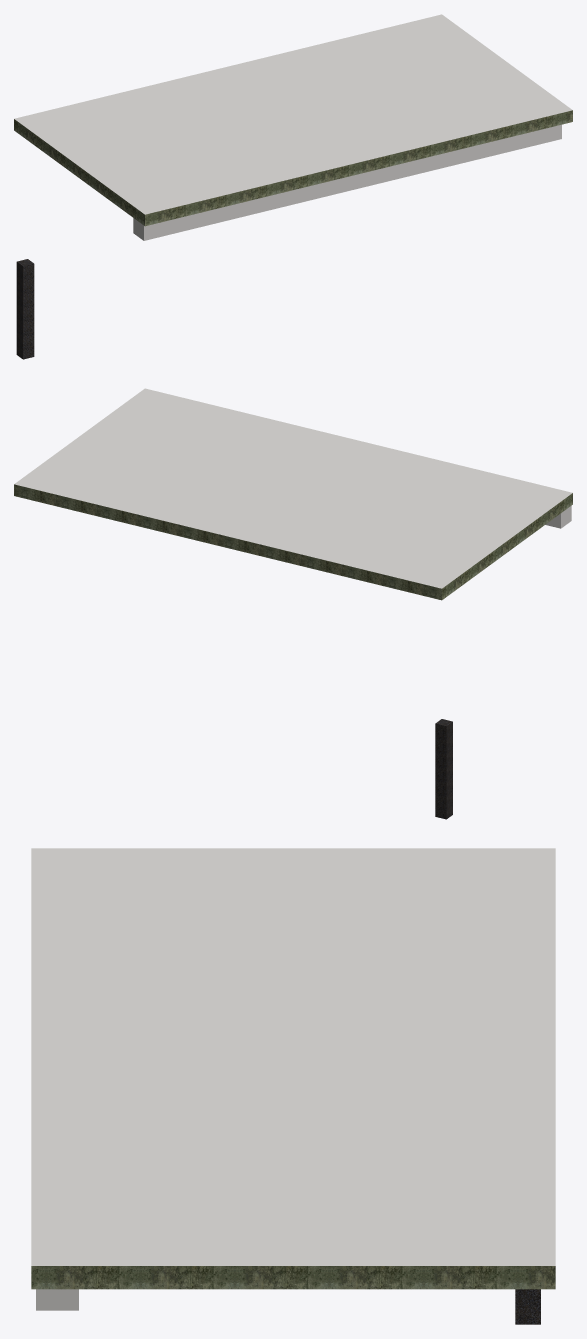
3 views of the same model, one above another, from view 1: azimuth 30°, elevation 25°; view 2: azimuth 150°, elevation 25°; view 3: azimuth 270°, elevation 25° (orthographic). The views are drawn at different scales.
Visible parts, largest first — view 1: Floor Floor-Grnd-Susp_65Scr-80Ins-100Blk-75PC [688862]001, Concrete - Rectangular Beam 250 x 350 mm [688590]001, Columns_Rectangular 150 x 150 mm2 [667990]001; view 2: Floor Floor-Grnd-Susp_65Scr-80Ins-100Blk-75PC [688862]001, Columns_Rectangular 150 x 150 mm2 [667990]001; view 3: Floor Floor-Grnd-Susp_65Scr-80Ins-100Blk-75PC [688862]001, Concrete - Rectangular Beam 250 x 350 mm [688590]001, Columns_Rectangular 150 x 150 mm2 [667990]001.
Part boxes in pixels (x1,y1,x2,y2): Floor Floor-Grnd-Susp_65Scr-80Ins-100Blk-75PC [688862]001: [14, 14, 572, 226]; Concrete - Rectangular Beam 250 x 350 mm [688590]001: [133, 124, 561, 240]; Columns_Rectangular 150 x 150 mm2 [667990]001: [16, 259, 34, 359]; Floor Floor-Grnd-Susp_65Scr-80Ins-100Blk-75PC [688862]001: [14, 388, 572, 600]; Columns_Rectangular 150 x 150 mm2 [667990]001: [435, 719, 452, 819]; Floor Floor-Grnd-Susp_65Scr-80Ins-100Blk-75PC [688862]001: [31, 848, 555, 1289]; Concrete - Rectangular Beam 250 x 350 mm [688590]001: [36, 851, 78, 1310]; Columns_Rectangular 150 x 150 mm2 [667990]001: [515, 1289, 540, 1324].
Bounding box in the file's own units: 5.77 × 3 × 3.05.
4 materials, 2 textured.
